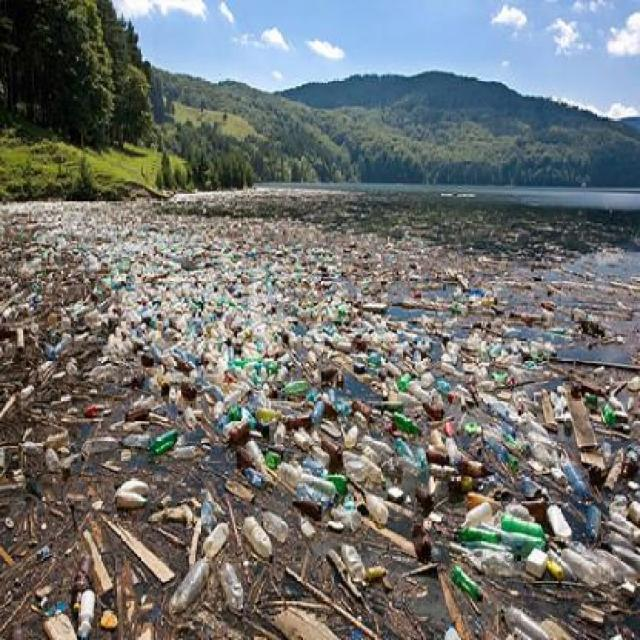garbage: (22, 199, 380, 380), (276, 319, 525, 488)
